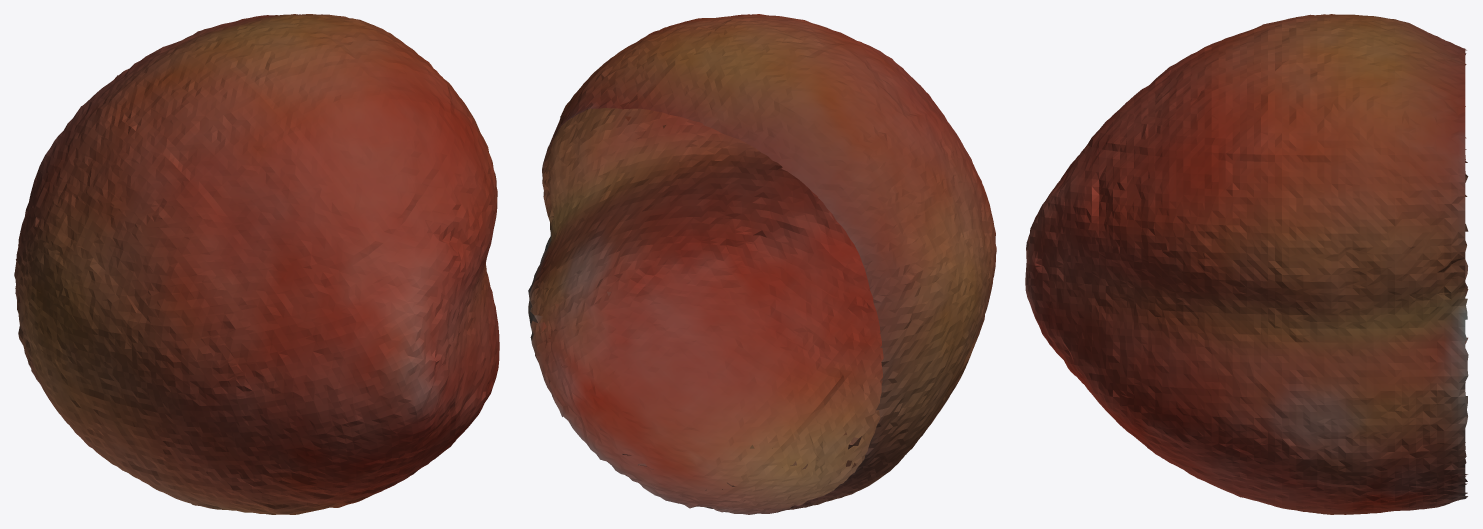
3 views of the same model, side by side, from view 1: azimuth 30°, elevation 25°; view 2: azimuth 150°, elevation 25°; view 3: azimuth 270°, elevation 25° (orthographic). The views are drawn at different scales.
Size of the model in its own units: 0.0678 by 0.0726 by 0.0629.
